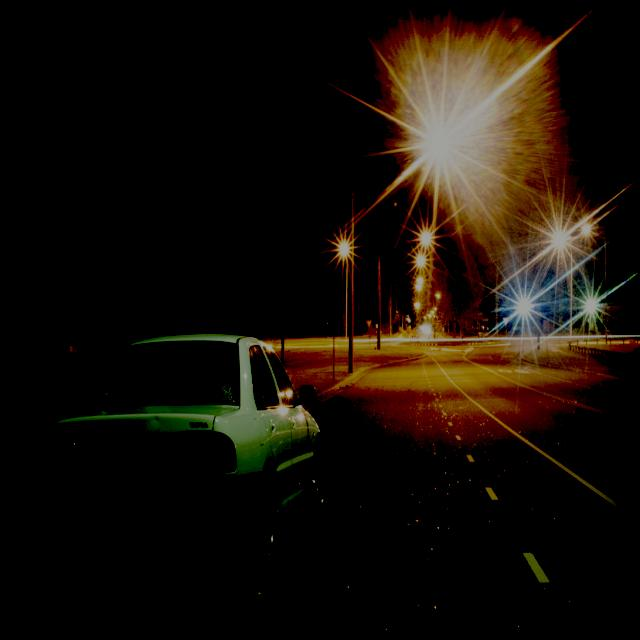Car: (50, 334, 331, 570)
